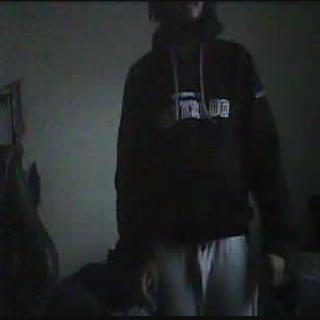Waterloo Hoodie: (118, 40, 290, 236)
White Sweatpants: (152, 235, 262, 320)
